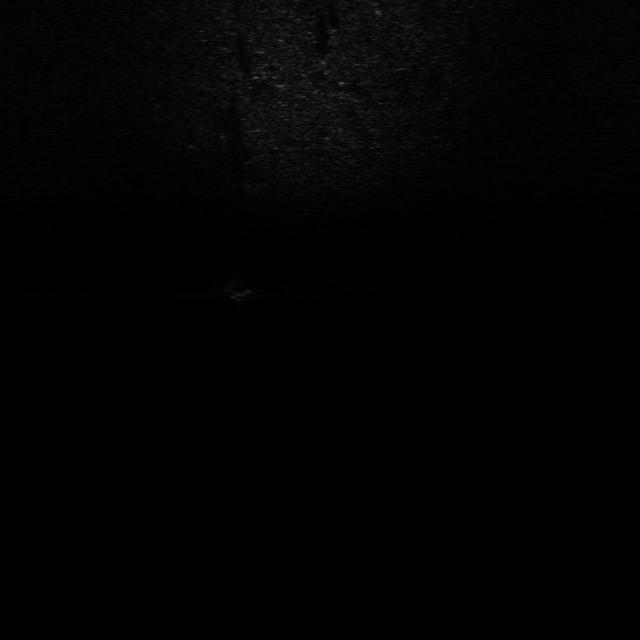human body: (218, 268, 258, 309)
